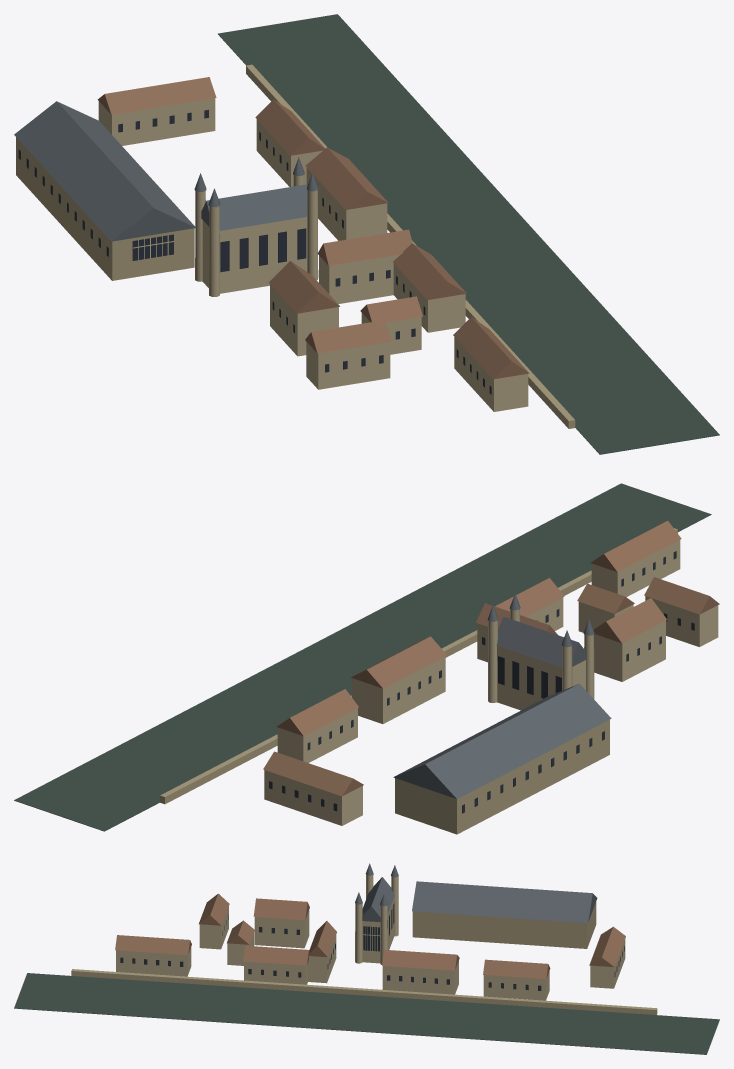
Rendered from westminster-site-b10.glb.
3 renders of one model, top to bottom at view 1: azimuth 30°, elevation 25°; view 2: azimuth 150°, elevation 25°; view 3: azimuth 270°, elevation 25°, orthographic. The views are drawn at different scales.
Size of the model in its own units: 139 by 32.02 by 292.
